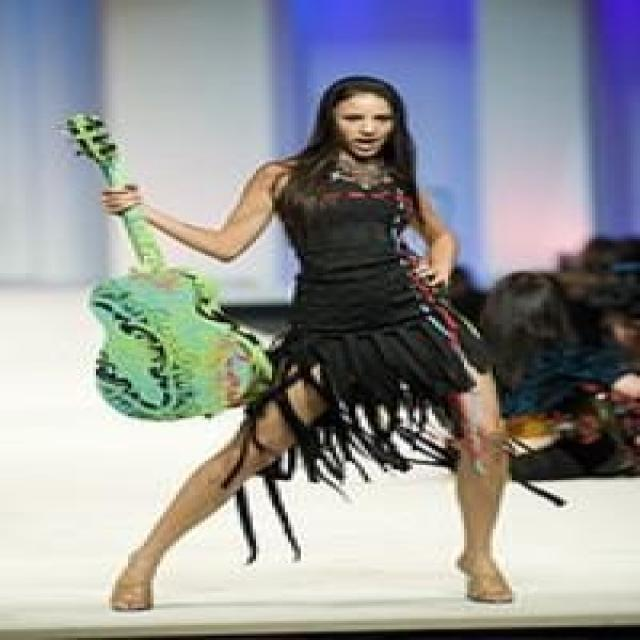guitar: (60, 108, 272, 425)
